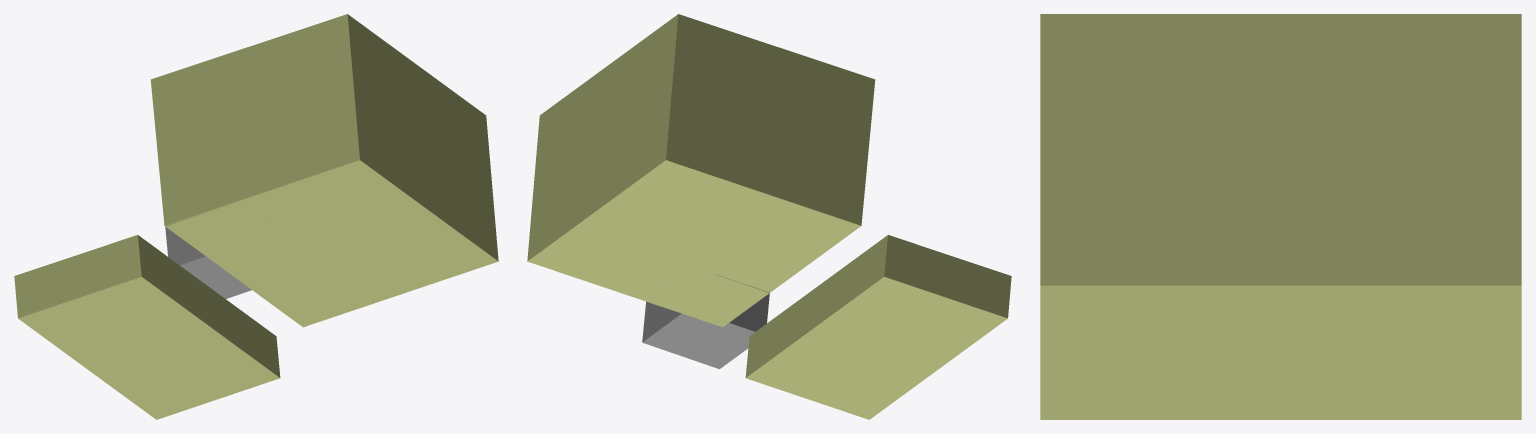
3 views of the same model, side by side, from view 1: azimuth 30°, elevation 25°; view 2: azimuth 150°, elevation 25°; view 3: azimuth 270°, elevation 25° (orthographic). The views are drawn at different scales.
Parts seen in each view (by area): view 1: 0_2_3_3_3_1_0_1_3_0_0; view 2: 0_2_3_3_3_1_0_1_3_0_0; view 3: 0_2_3_3_3_1_0_1_3_0_0.
Boxes of the visible parts, box(x1,y1,x2,y2) form: 0_2_3_3_3_1_0_1_3_0_0: box(14, 14, 498, 419); 0_2_3_3_3_1_0_1_3_0_0: box(527, 14, 1011, 419); 0_2_3_3_3_1_0_1_3_0_0: box(1040, 14, 1521, 419).
Size of the model in its own units: 12.96 by 8.02 by 9.
